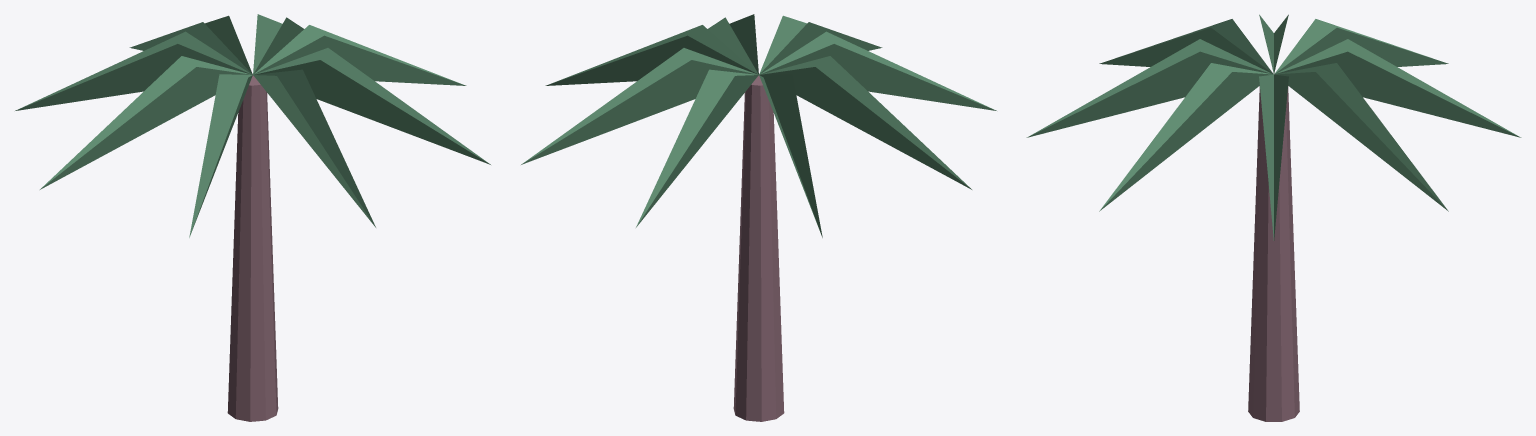
File: palm.glb
3 views of the same model, side by side, from view 1: azimuth 30°, elevation 25°; view 2: azimuth 150°, elevation 25°; view 3: azimuth 270°, elevation 25° (orthographic).
Visible parts, largest first — view 1: Palm trunk, Palm leaf.007, Palm leaf.004, Palm leaf.003, Palm leaf.006, Palm leaf, Palm leaf.005, Palm leaf.002, Palm leaf.001; view 2: Palm trunk, Palm leaf.001, Palm leaf.004, Palm leaf.005, Palm leaf.002, Palm leaf, Palm leaf.003, Palm leaf.006, Palm leaf.007; view 3: Palm trunk, Palm leaf.002, Palm leaf.006, Palm leaf.001, Palm leaf.007, Palm leaf.003, Palm leaf.005, Palm leaf, Palm leaf.004.
Part boxes in pixels (x1,y1,x2,y2): Palm trunk: (227, 74, 278, 421); Palm leaf.007: (253, 48, 490, 164); Palm leaf.004: (40, 56, 251, 189); Palm leaf.003: (15, 31, 252, 110); Palm leaf.006: (253, 69, 375, 227); Palm leaf: (253, 25, 466, 85); Palm leaf.005: (189, 74, 252, 237); Palm leaf.002: (129, 15, 252, 74); Palm leaf.001: (253, 14, 303, 74); Palm trunk: (733, 74, 784, 421); Palm leaf.001: (521, 48, 758, 164); Palm leaf.004: (760, 56, 971, 189); Palm leaf.005: (759, 31, 996, 110); Palm leaf.002: (636, 69, 758, 227); Palm leaf: (545, 25, 758, 85); Palm leaf.003: (759, 74, 822, 237); Palm leaf.006: (759, 15, 882, 74); Palm leaf.007: (708, 14, 758, 74); Palm trunk: (1248, 86, 1299, 421); Palm leaf.002: (1274, 39, 1521, 137); Palm leaf.006: (1026, 39, 1273, 137); Palm leaf.001: (1274, 63, 1448, 211); Palm leaf.007: (1099, 63, 1273, 211); Palm leaf.003: (1274, 19, 1448, 73); Palm leaf.005: (1099, 19, 1273, 73); Palm leaf: (1259, 74, 1288, 240); Palm leaf.004: (1259, 14, 1288, 73).
Bounding box in the file's own units: 4.6 × 3.75 × 4.6.
